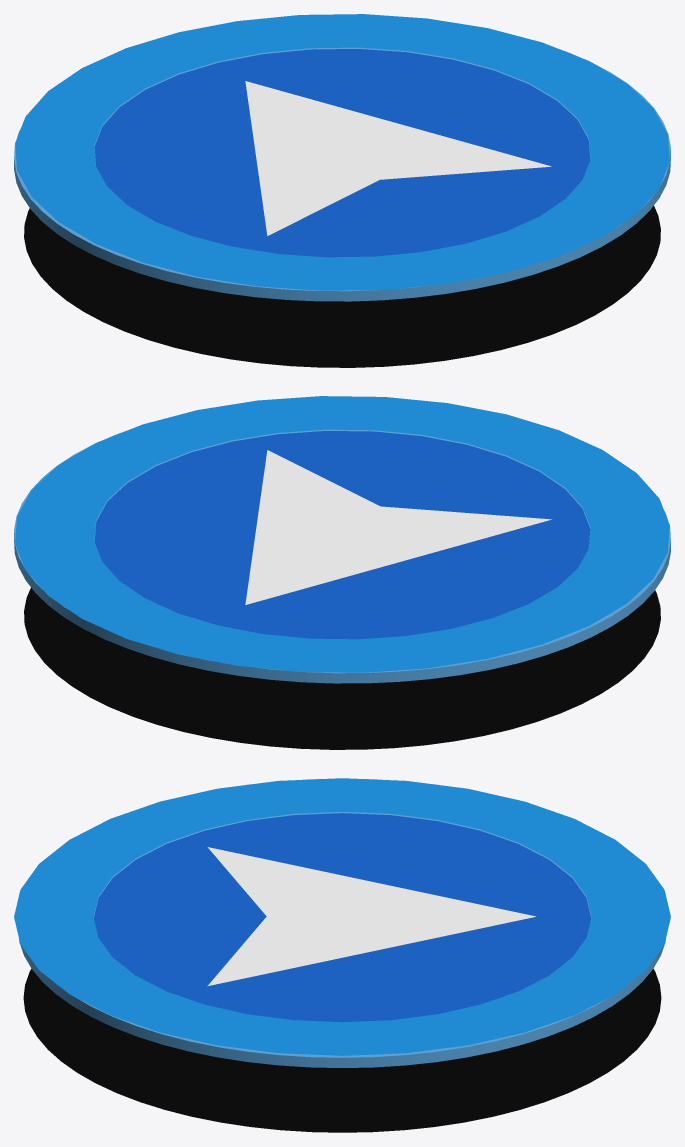
File: egoCarCircleShadow.gltf
3 renders of one model, top to bottom at view 1: azimuth 30°, elevation 25°; view 2: azimuth 150°, elevation 25°; view 3: azimuth 270°, elevation 25°, orthographic.
Parts seen in each view (by area): view 1: cercleInter, cercleExter, Circle, fleche, Cylinder; view 2: cercleInter, cercleExter, Circle, fleche, Cylinder; view 3: cercleInter, cercleExter, Circle, fleche, Cylinder.
Boxes of the visible parts, box(x1,y1,x2,y2) form: cercleInter: box(94, 49, 590, 257); cercleExter: box(15, 14, 669, 290); Circle: box(24, 206, 660, 367); fleche: box(245, 81, 551, 235); Cylinder: box(14, 47, 670, 301); cercleInter: box(94, 431, 590, 639); cercleExter: box(15, 396, 669, 672); Circle: box(24, 588, 660, 749); fleche: box(245, 450, 551, 604); Cylinder: box(14, 429, 670, 683); cercleInter: box(94, 813, 590, 1022); cercleExter: box(14, 778, 670, 1055); Circle: box(23, 969, 661, 1132); fleche: box(207, 847, 535, 986); Cylinder: box(19, 779, 665, 1067).
Bounding box in the file's own units: 0.58 × 0.0788 × 0.5767.
